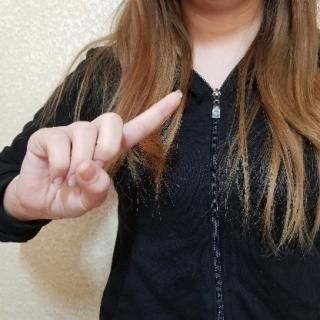BAA: (10, 86, 186, 222)
